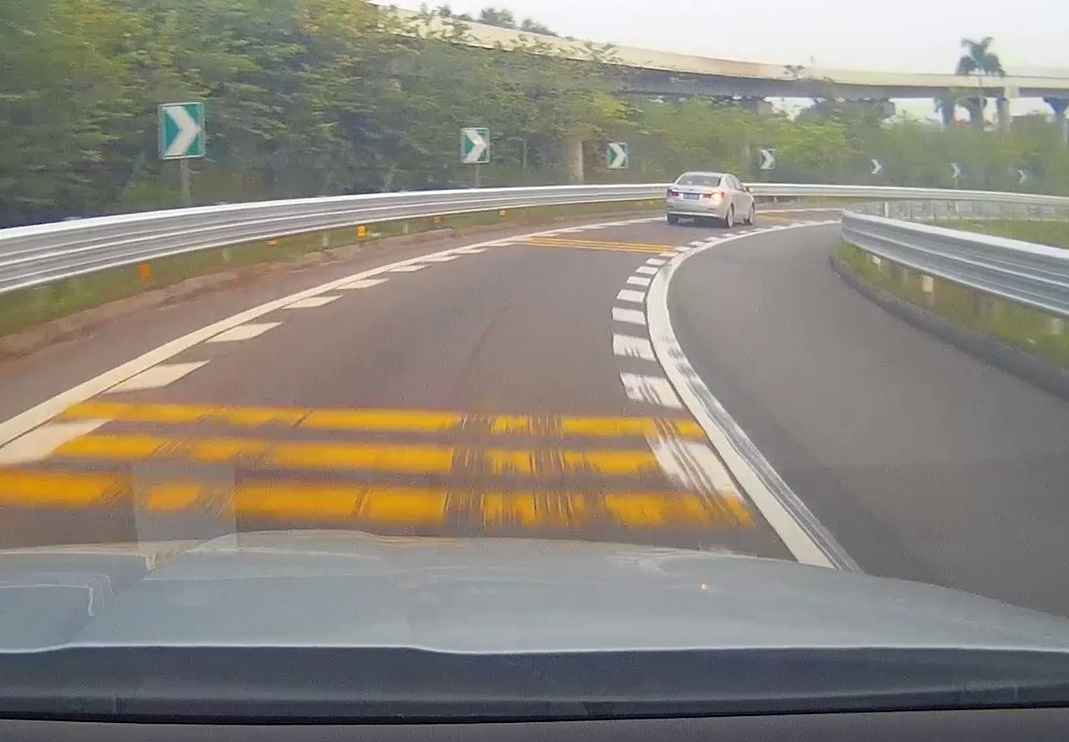L_light: (667, 189, 679, 196)
R_light: (703, 191, 726, 199)
T_light: (698, 174, 708, 177)
day-right: (666, 171, 728, 226)
